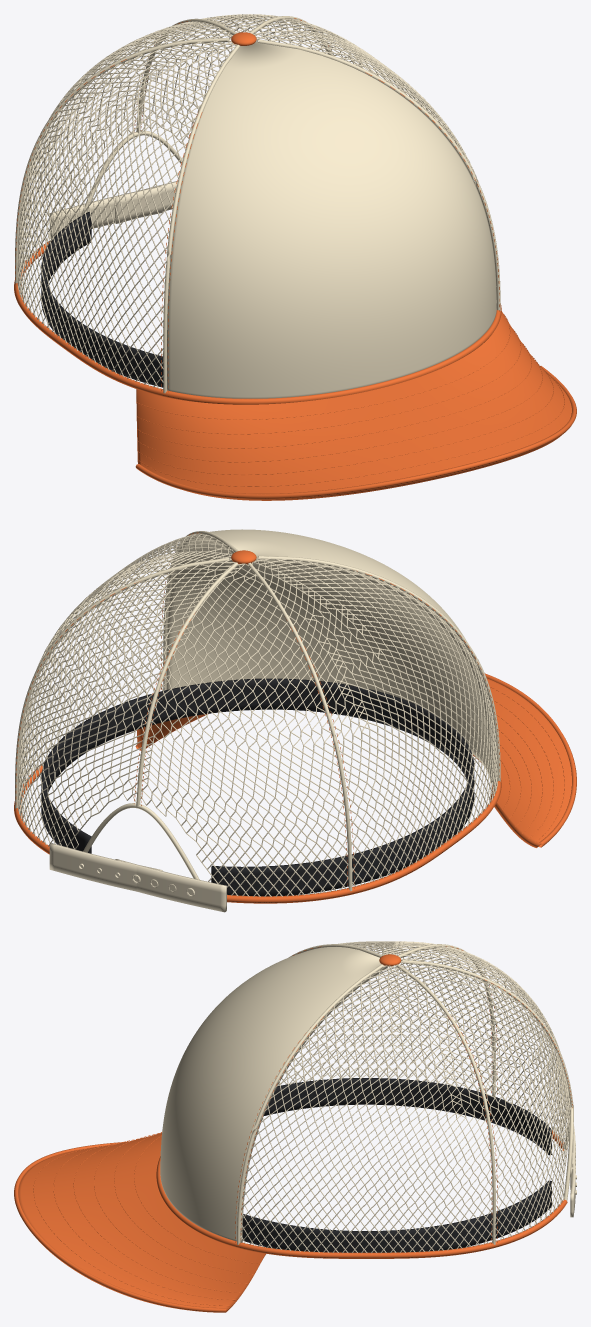
Rendered from trucker-sunset.glb.
The picture shows the model from 3 angles, top to bottom: view 1: azimuth 30°, elevation 25°; view 2: azimuth 150°, elevation 25°; view 3: azimuth 270°, elevation 25°; orthographic projection. The views are drawn at different scales.
Parts seen in each view (by area): view 1: Front panel / color / complete construction, Brim / color / complete construction, Open mesh / color / complete construction, Interior sweatband / complete construction, Topstitch / color / complete construction, Snapback / color / complete construction; view 2: Open mesh / color / complete construction, Front panel / color / complete construction, Interior sweatband / complete construction, Brim / color / complete construction, Snapback / color / complete construction, Topstitch / color / complete construction; view 3: Open mesh / color / complete construction, Front panel / color / complete construction, Brim / color / complete construction, Interior sweatband / complete construction, Topstitch / color / complete construction.
Boxes of the visible parts, x1,y1,x2,y2 form: Front panel / color / complete construction: (15,16,500,398); Brim / color / complete construction: (14,32,576,500); Open mesh / color / complete construction: (17,14,496,389); Interior sweatband / complete construction: (41,212,163,387); Topstitch / color / complete construction: (15,18,564,486); Snapback / color / complete construction: (49,181,177,238); Open mesh / color / complete construction: (18,533,497,896); Front panel / color / complete construction: (15,529,500,891); Interior sweatband / complete construction: (41,678,474,896); Brim / color / complete construction: (14,550,576,903); Snapback / color / complete construction: (49,843,226,912); Topstitch / color / complete construction: (15,532,564,889); Open mesh / color / complete construction: (240,941,570,1253); Front panel / color / complete construction: (160,944,573,1244); Brim / color / complete construction: (14,954,567,1312); Interior sweatband / complete construction: (242,1078,551,1252); Topstitch / color / complete construction: (33,946,572,1306).
Size of the model in its own units: 0.2024 by 0.1506 by 0.2816.
